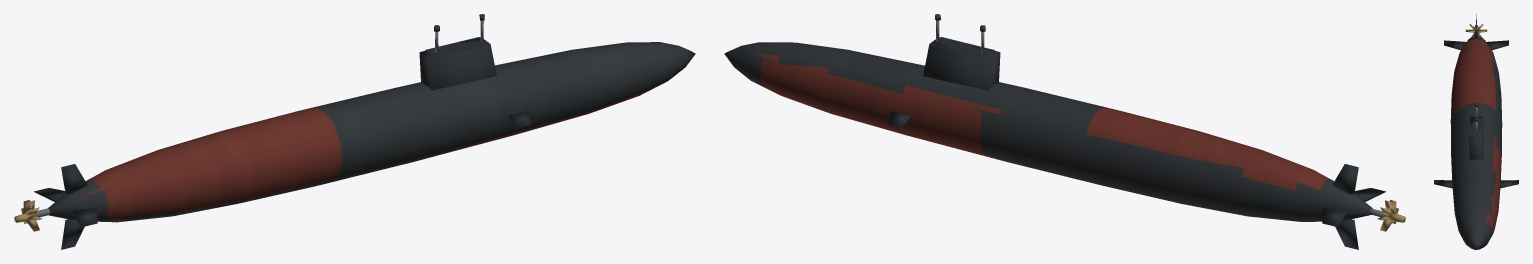
The model's file is FR_SSN_Rubis_LOD3.fbx.
3 renders of one model, left to right at view 1: azimuth 30°, elevation 25°; view 2: azimuth 150°, elevation 25°; view 3: azimuth 270°, elevation 25°, orthographic. The views are drawn at different scales.
Visible parts, largest first — view 1: FR_SSN_Rubis_LOD3; view 2: FR_SSN_Rubis_LOD3; view 3: FR_SSN_Rubis_LOD3.
Part boxes in pixels (x1,y1,x2,y2): FR_SSN_Rubis_LOD3: (14, 14, 695, 249); FR_SSN_Rubis_LOD3: (724, 14, 1405, 249); FR_SSN_Rubis_LOD3: (1434, 14, 1518, 249).
Bounding box in the file's own units: 77.35 × 12.54 × 14.35.
Materials: 6 (1 with a texture image).
